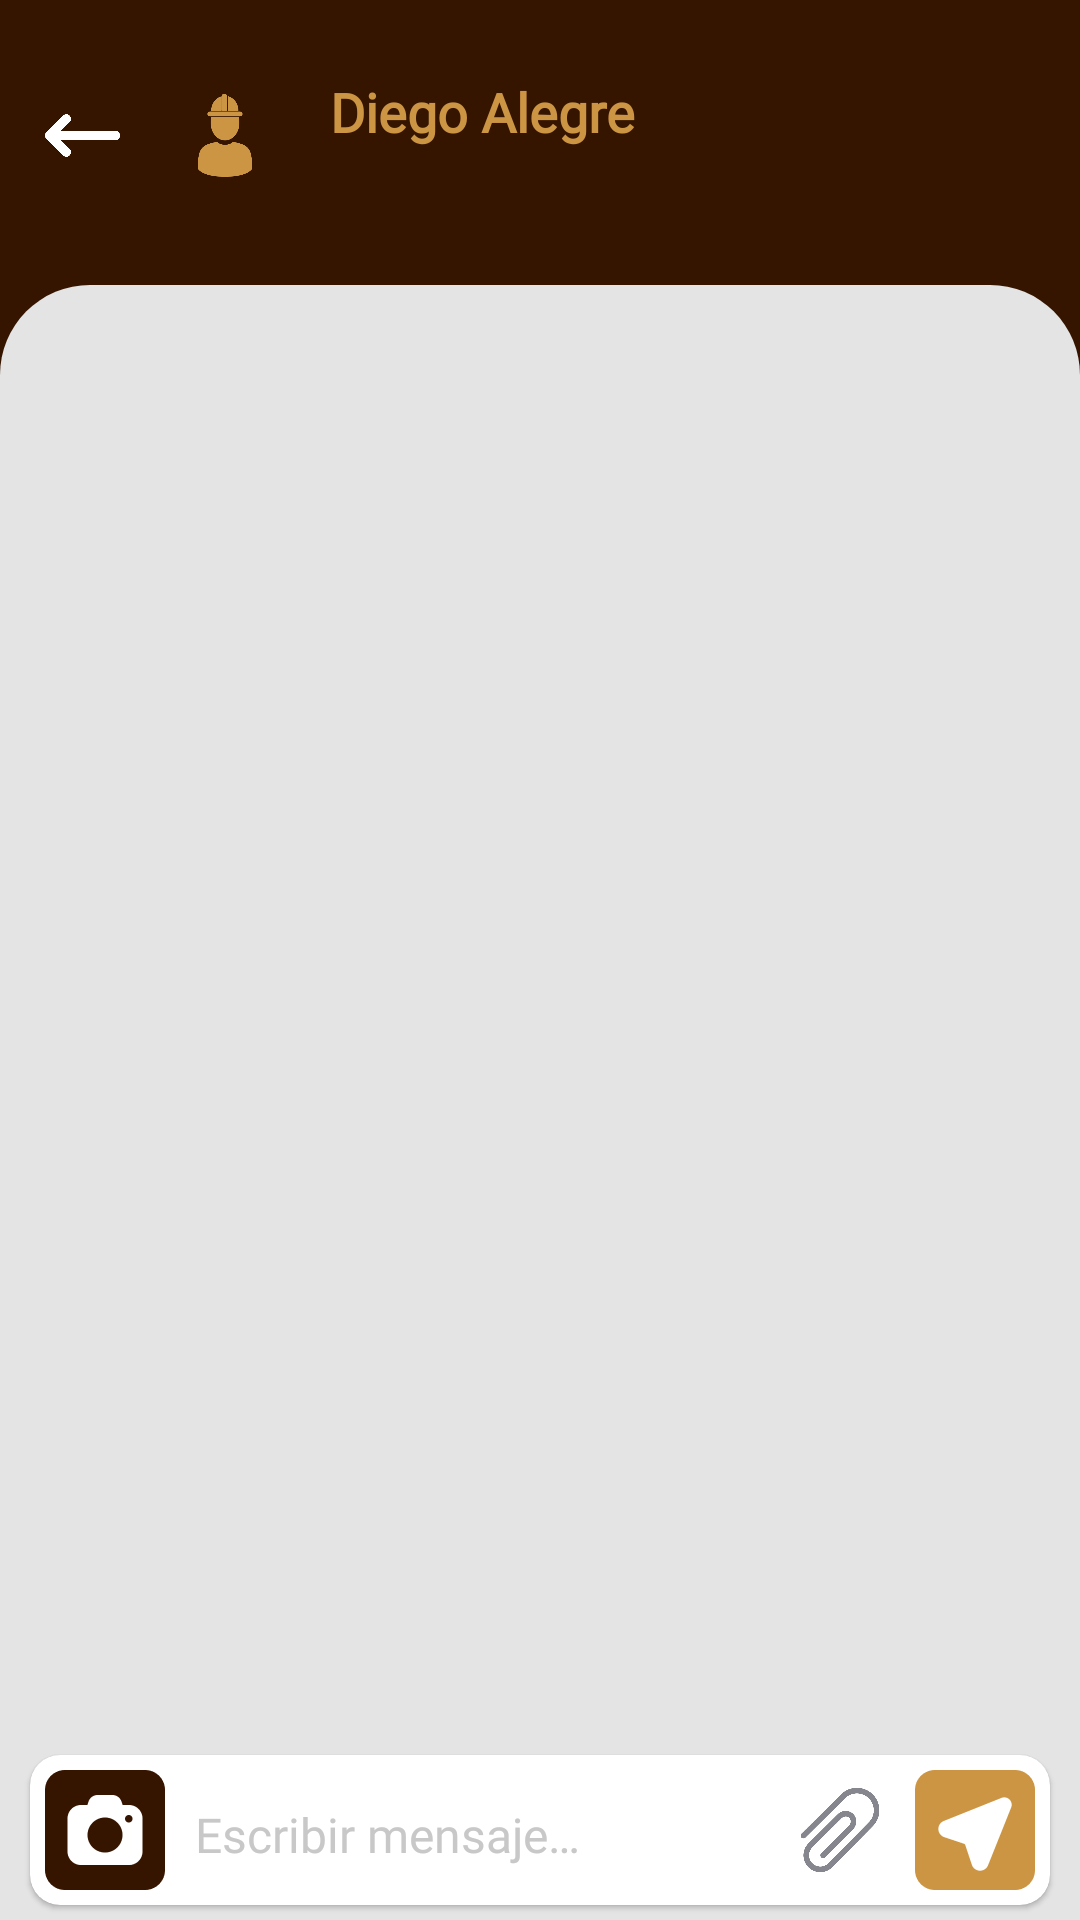

Point at icon controls on the screen. Image size 1080px x 1920px, points as point (x, y).
profile picture: point (225, 135)
send msg: point (975, 1830)
send photo: point (105, 1830)
